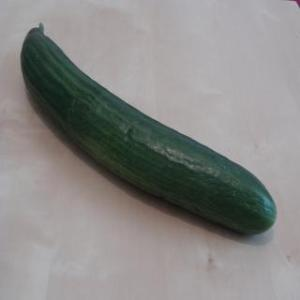cucumber: (18, 20, 280, 241)
